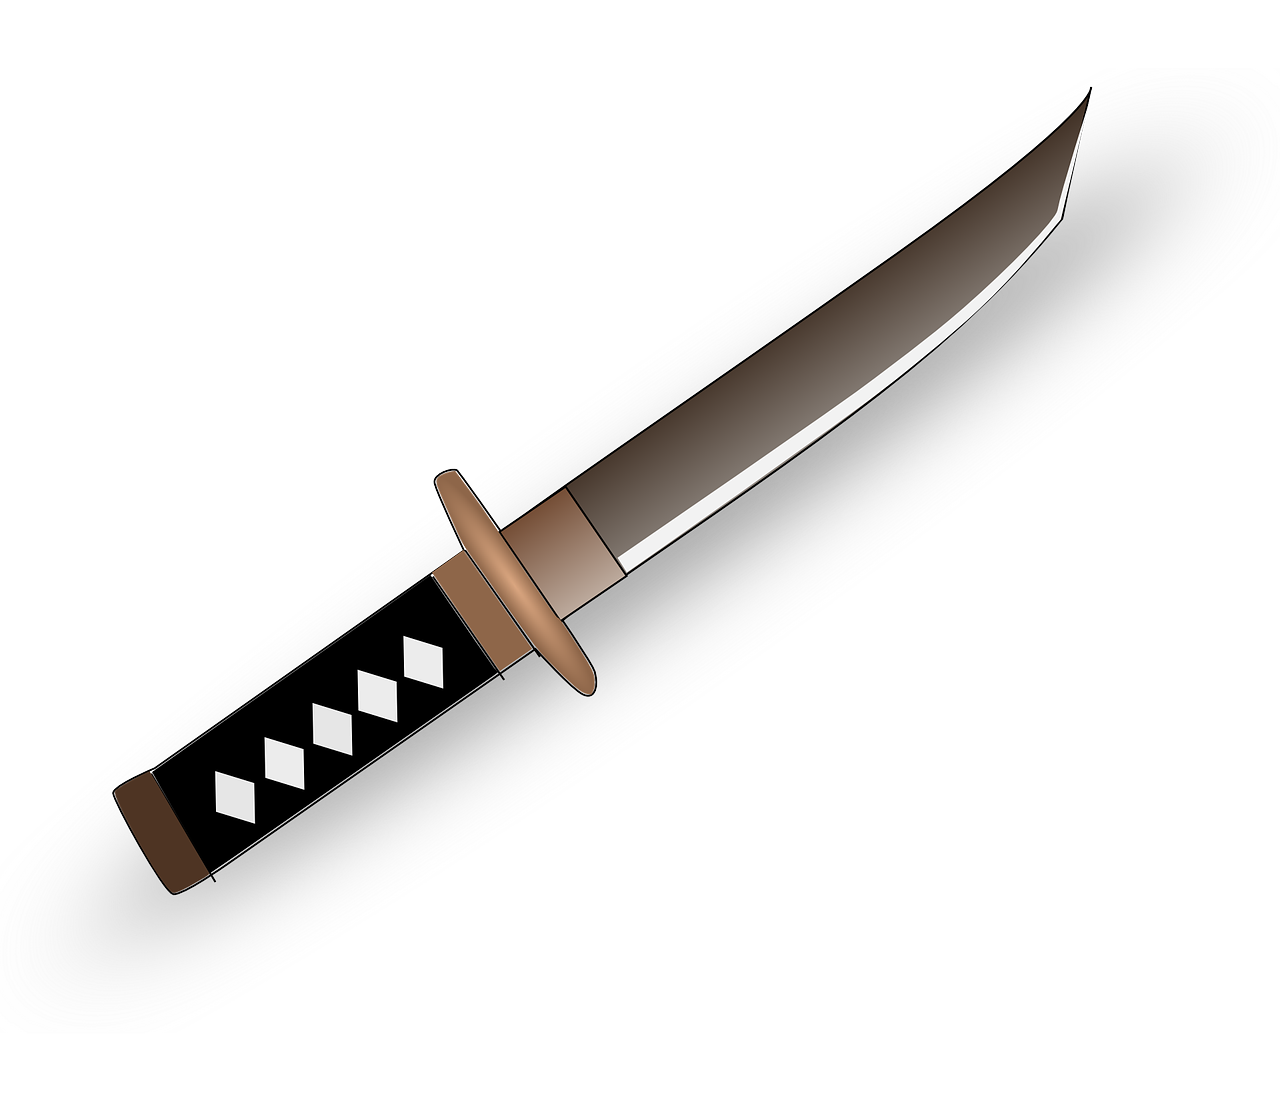knife: (107, 84, 1100, 917)
